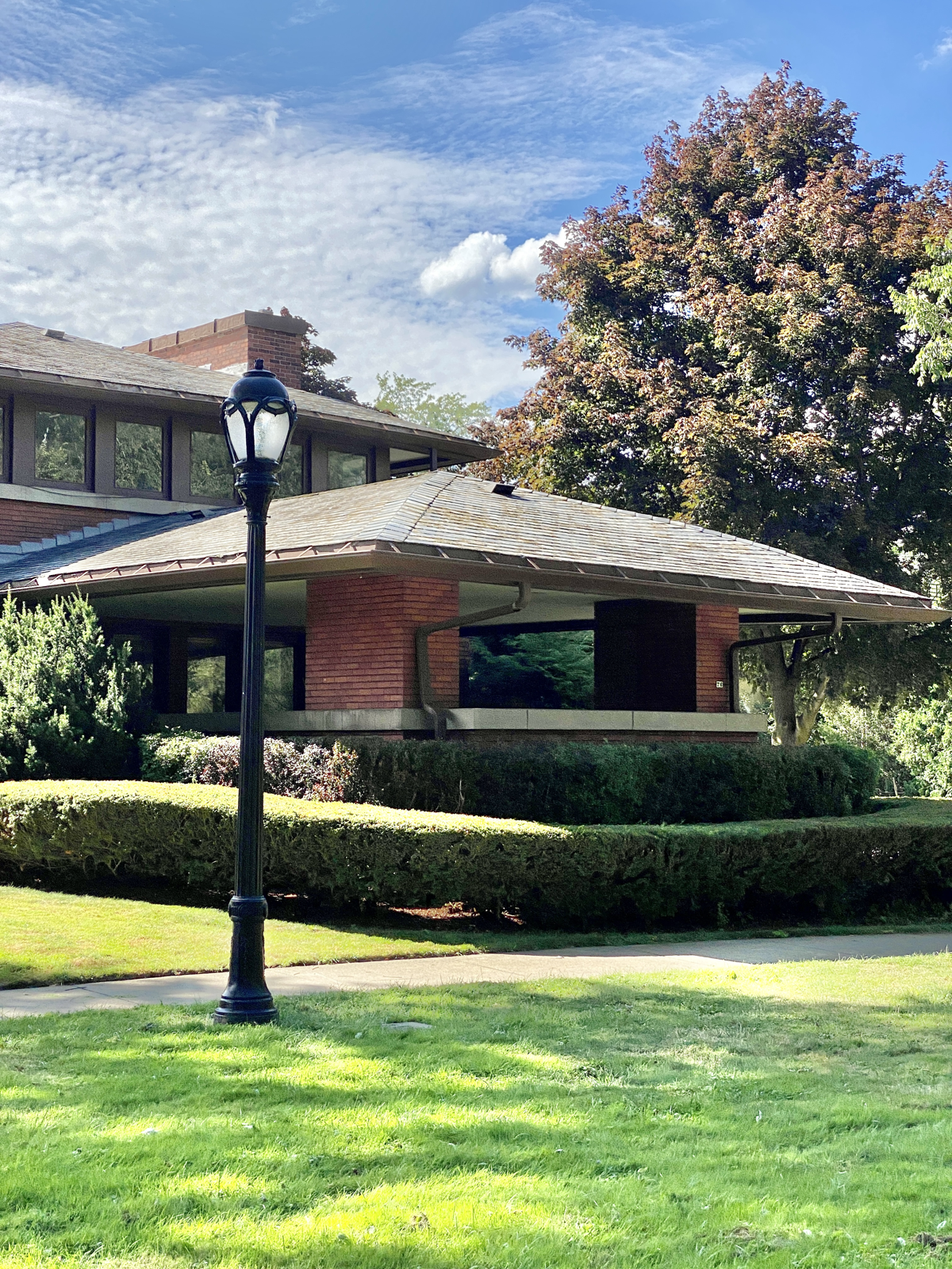fachada: (0, 309, 944, 765)
poste: (230, 357, 317, 1027)
